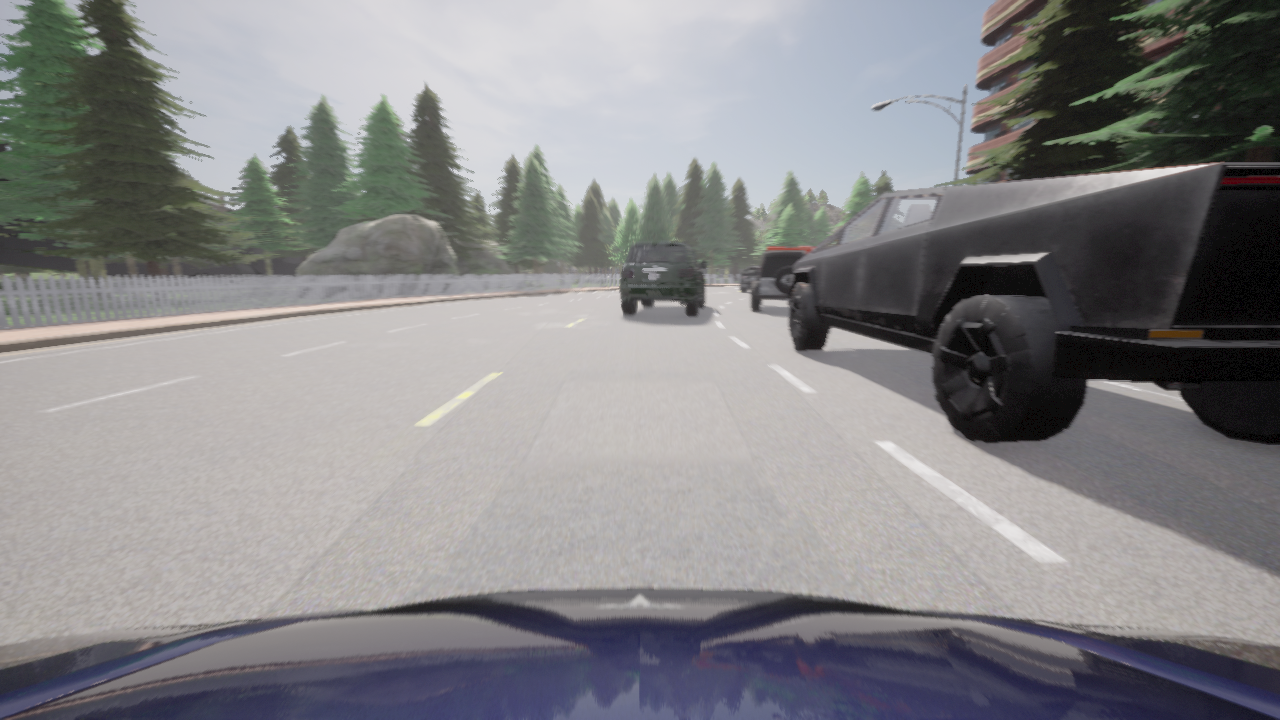cyclist: (0, 588, 1279, 719), (788, 162, 1279, 443), (620, 242, 706, 315), (750, 251, 806, 310), (740, 266, 760, 291), (766, 246, 814, 253)
